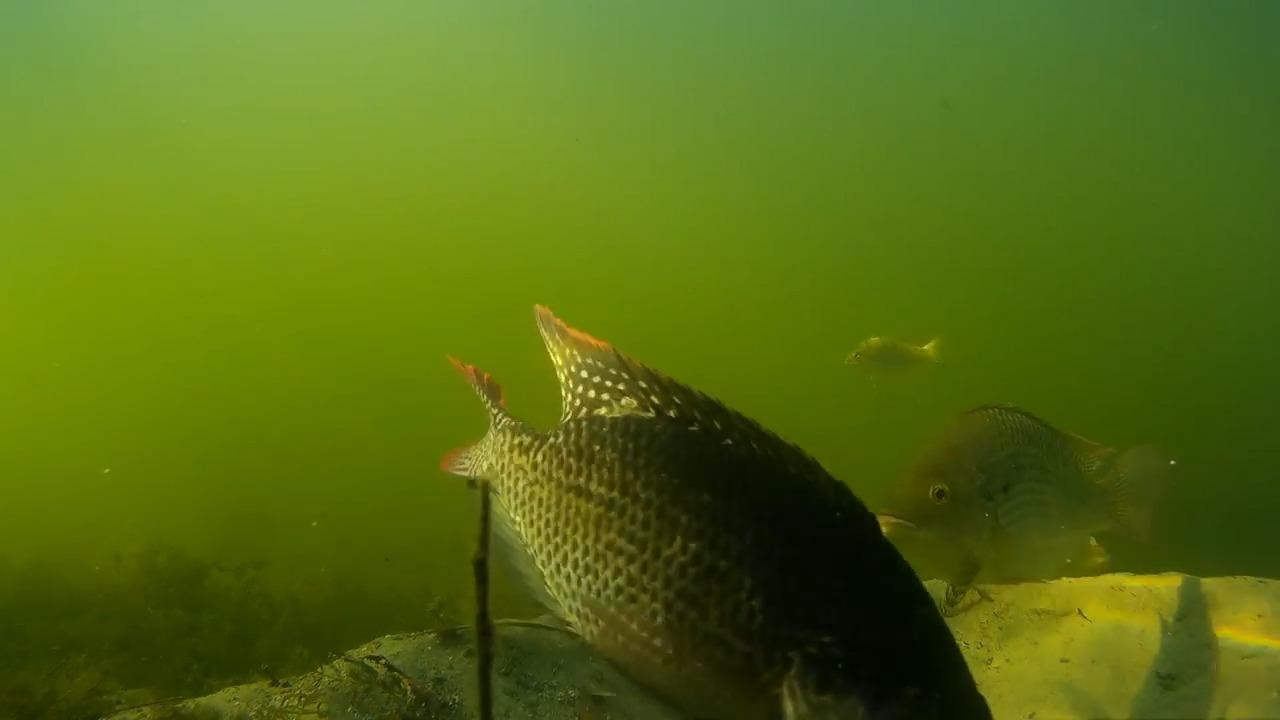Tilapia: (437, 306, 998, 720), (892, 400, 1197, 624), (833, 294, 942, 374)
